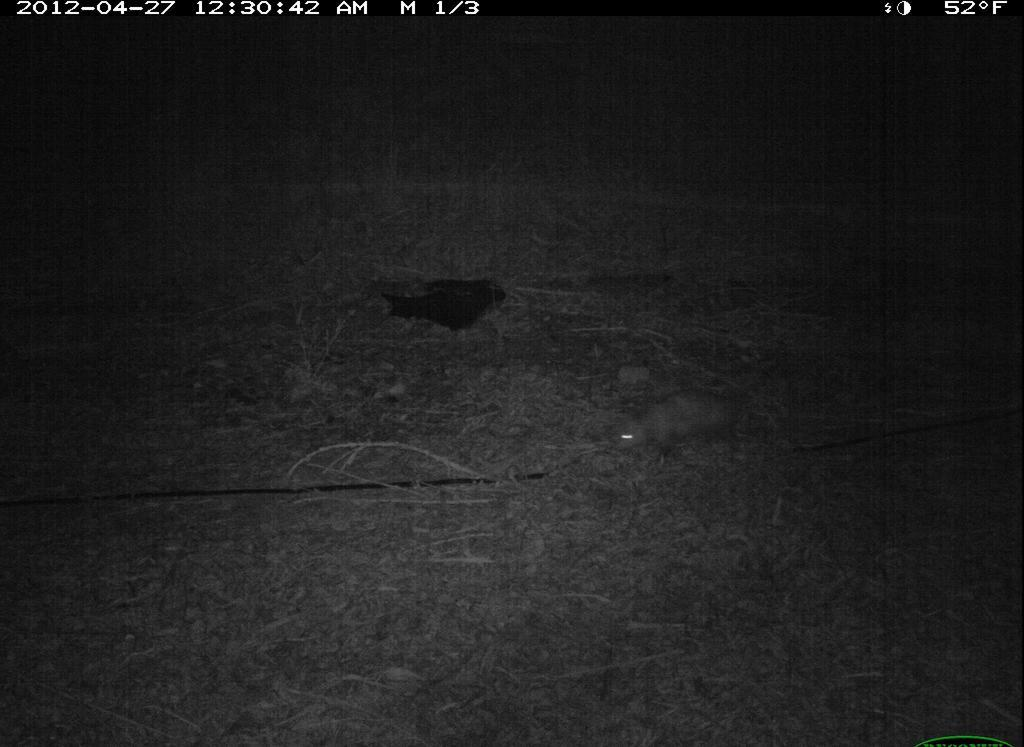opossum: (610, 377, 788, 469)
